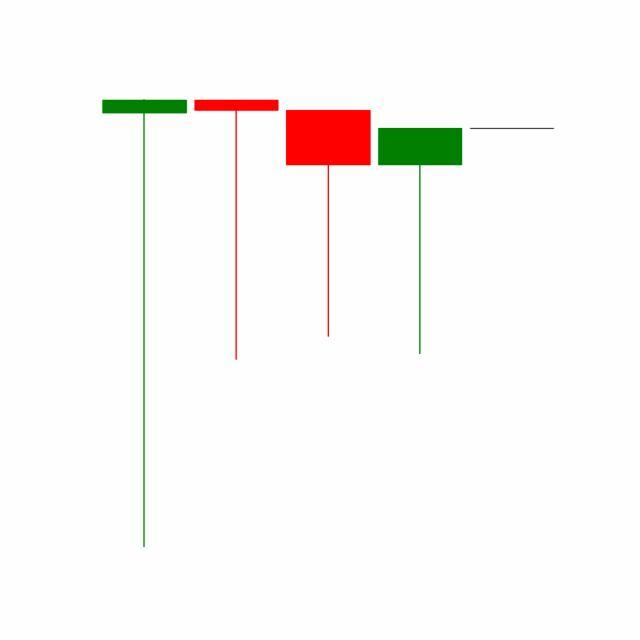Dragonfly Doji: (374, 125, 468, 358)
